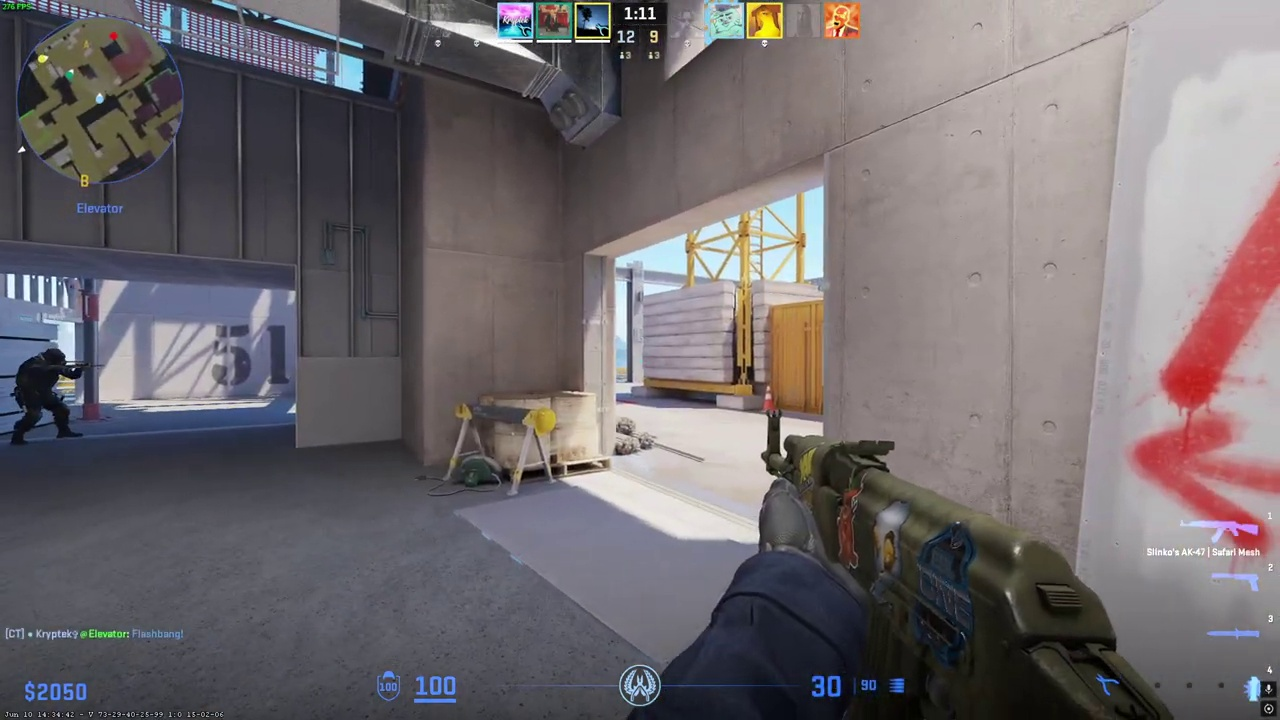CT: (11, 348, 80, 445)
